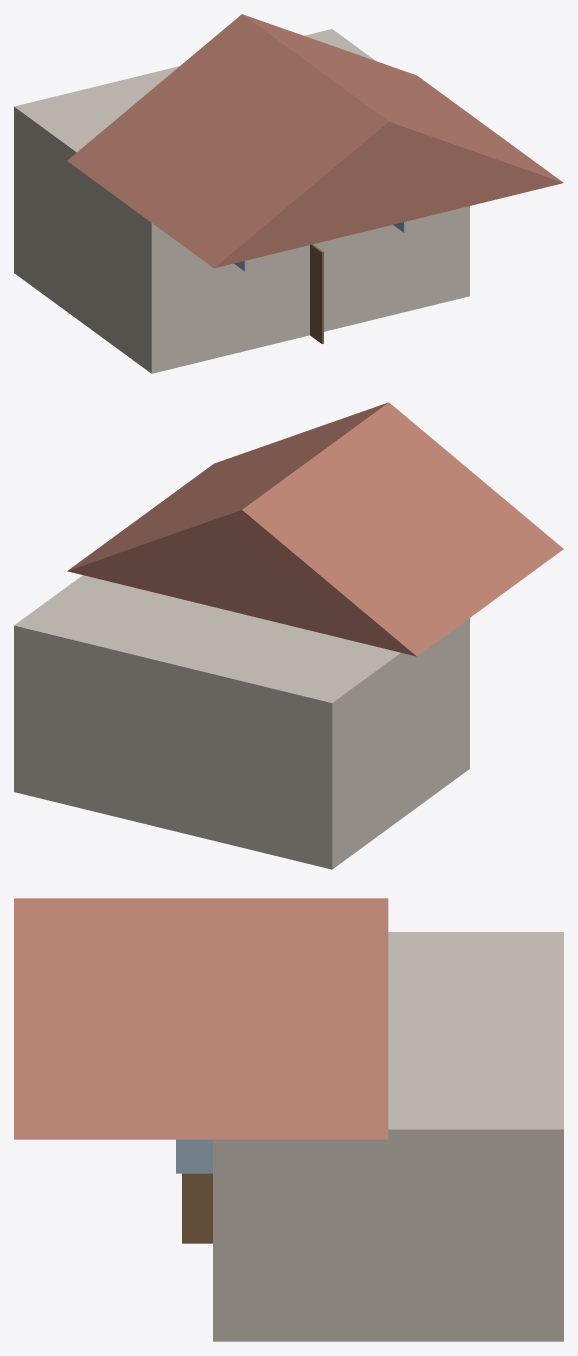
The model's file is modelo_RA_referencial_Casa_Zela.glb.
3 renders of one model, top to bottom at view 1: azimuth 30°, elevation 25°; view 2: azimuth 150°, elevation 25°; view 3: azimuth 270°, elevation 25°, orthographic. The views are drawn at different scales.
Visible parts, largest first — view 1: world; view 2: world; view 3: world.
Part boxes in pixels (x1=…): world: x1=14, y1=14, x2=563, y2=373; world: x1=14, y1=402, x2=563, y2=869; world: x1=14, y1=898, x2=563, y2=1341.
Size of the model in its own units: 8.8 by 6.5 by 9.4.
